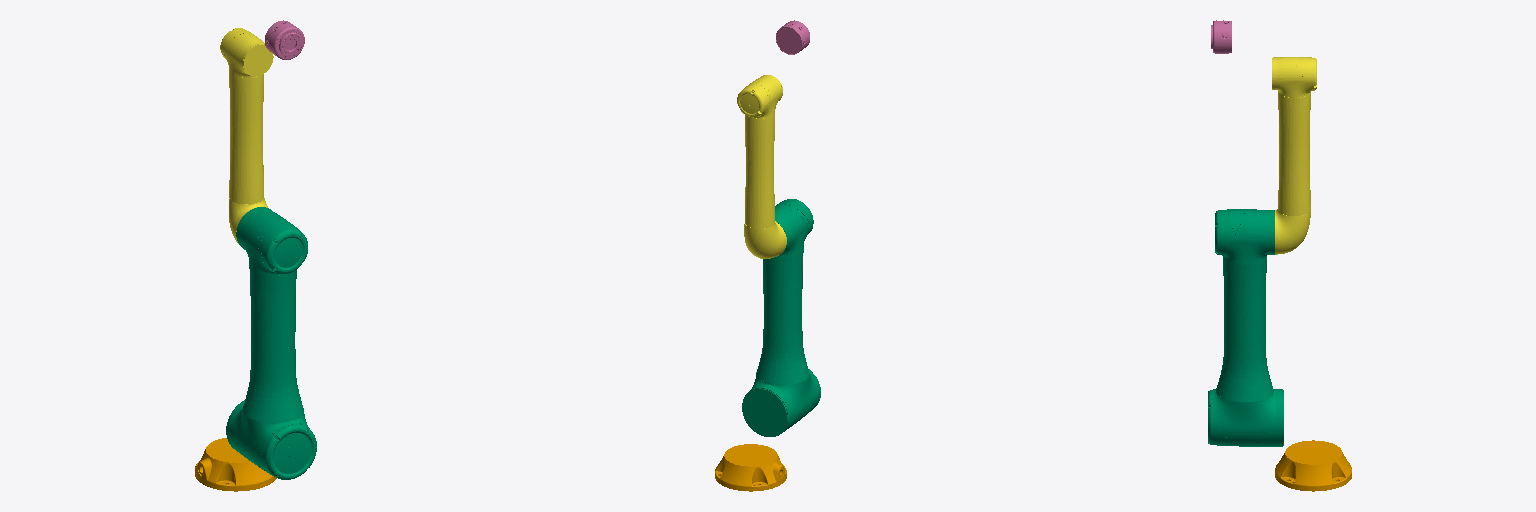
robot.urdf — tm14x:
<?xml version="1.0" ?>
<!-- =================================================================================== -->
<!-- |    This document was autogenerated by xacro from tm14x.urdf.xacro               | -->
<!-- |    EDITING THIS FILE BY HAND IS NOT RECOMMENDED                                 | -->
<!-- =================================================================================== -->
<robot name="tm14x">
  <gazebo reference="link_1">
    <selfCollide>true</selfCollide>
  </gazebo>
  <gazebo reference="link_2">
    <selfCollide>true</selfCollide>
  </gazebo>
  <gazebo reference="link_3">
    <selfCollide>true</selfCollide>
  </gazebo>
  <gazebo reference="link_4">
    <selfCollide>true</selfCollide>
  </gazebo>
  <gazebo reference="link_5">
    <selfCollide>true</selfCollide>
  </gazebo>
  <gazebo reference="link_6">
    <selfCollide>true</selfCollide>
  </gazebo>
  <gazebo>
    <plugin filename="libgazebo_ros_control.so" name="gazebo_ros_control">
      <robotNamespace>/</robotNamespace>
      <robotSimType>gazebo_ros_control/DefaultRobotHWSim</robotSimType>
    </plugin>
  </gazebo>
  <transmission name="trans_1">
    <type>transmission_interface/SimpleTransmission</type>
    <joint name="joint_1">
      <hardwareInterface>hardware_interface/PositionJointInterface</hardwareInterface>
    </joint>
    <actuator name="motor_1">
      <mechanicalReduction>1</mechanicalReduction>
    </actuator>
  </transmission>
  <transmission name="trans_2">
    <type>transmission_interface/SimpleTransmission</type>
    <joint name="joint_2">
      <hardwareInterface>hardware_interface/PositionJointInterface</hardwareInterface>
    </joint>
    <actuator name="motor_2">
      <mechanicalReduction>1</mechanicalReduction>
    </actuator>
  </transmission>
  <transmission name="trans_3">
    <type>transmission_interface/SimpleTransmission</type>
    <joint name="joint_3">
      <hardwareInterface>hardware_interface/PositionJointInterface</hardwareInterface>
    </joint>
    <actuator name="motor_3">
      <mechanicalReduction>1</mechanicalReduction>
    </actuator>
  </transmission>
  <transmission name="trans_4">
    <type>transmission_interface/SimpleTransmission</type>
    <joint name="joint_4">
      <hardwareInterface>hardware_interface/PositionJointInterface</hardwareInterface>
    </joint>
    <actuator name="motor_4">
      <mechanicalReduction>1</mechanicalReduction>
    </actuator>
  </transmission>
  <transmission name="trans_5">
    <type>transmission_interface/SimpleTransmission</type>
    <joint name="joint_5">
      <hardwareInterface>hardware_interface/PositionJointInterface</hardwareInterface>
    </joint>
    <actuator name="motor_5">
      <mechanicalReduction>1</mechanicalReduction>
    </actuator>
  </transmission>
  <transmission name="trans_6">
    <type>transmission_interface/SimpleTransmission</type>
    <joint name="joint_6">
      <hardwareInterface>hardware_interface/PositionJointInterface</hardwareInterface>
    </joint>
    <actuator name="motor_6">
      <mechanicalReduction>1</mechanicalReduction>
    </actuator>
  </transmission>
  <material name="lightgrey">
    <color rgba="0.5 0.5 0.5 1.0"/>
  </material>
  <material name="grey">
    <color rgba="0.75 0.75 0.75 1.0"/>
  </material>
  <material name="white">
    <color rgba="0.95 0.95 0.95 1.0"/>
  </material>
  <material name="red">
    <color rgba="0.95 0.0 0.0 1.0"/>
  </material>
  <material name="orange">
    <color rgba="1.0 0.5 0.0 1.0"/>
  </material>
  <material name="yellow">
    <color rgba="1.0 1.0 0.0 1.0"/>
  </material>
  <material name="green">
    <color rgba="0.0 1.0 0.0 1.0"/>
  </material>
  <material name="blue">
    <color rgba="0.0 0.0 1.0 1.0"/>
  </material>
  <material name="indigo">
    <color rgba="0.3 0.3 0.6 1.0"/>
  </material>
  <material name="violet">
    <color rgba="0.6 0.0 1.0 1.0"/>
  </material>
  <material name="black">
    <color rgba="0.0 0.0 0.0 1.0"/>
  </material>
  <material name="darkolive">
    <color rgba="0.3 0.3 0.25 1.0"/>
  </material>
  <!--LinkDescription-->
  <link name="link_0">
    <visual>
      <geometry>
        <mesh filename="package://tm_description/meshes/tm12/visual/tm12-base.obj"/>
      </geometry>
      <material name="none"/>
    </visual>
    <collision>
      <geometry>
        <mesh filename="package://tm_description/meshes/tm12/collision/tm12-base_c.stl"/>
      </geometry>
    </collision>
    <inertial>
      <mass value="1.0"/>
      <origin rpy="0.000000 0.000000 0.000000" xyz="0.000000 0.000000 0.000000"/>
      <inertia ixx="0.00110833289" ixy="0.0" ixz="0.0" iyy="0.00110833289" iyz="0.0" izz="0.0018"/>
    </inertial>
  </link>
  <joint name="joint_1" type="revolute">
    <parent link="link_0"/>
    <child link="link_1"/>
    <origin rpy="0.000000 -0.000000 0.000000" xyz="0.000000 0.000000 0.165200"/>
    <axis xyz="0 0 1"/>
    <!--limit-->
    <limit effort="353" lower="-6.283185307179586" upper="6.283185307179586" velocity="2.0943951023931953"/>
    <dynamics damping="0.0" friction="0.0"/>
  </joint>
  <link name="link_1">
    <visual>
      <geometry>
        <mesh filename="package://tm_description/meshes/tm12/visual/tmr_750w_01.obj"/>
      </geometry>
      <material name="none"/>
    </visual>
    <collision>
      <geometry>
        <mesh filename="package://tm_description/meshes/tm12/collision/tmr_750w_01_c.stl"/>
      </geometry>
    </collision>
    <inertial>
      <origin rpy="0.000000 0.000000 0.000000" xyz="0.000000 0.000000 0.000000"/>
      <mass value="7.6"/>
      <inertia ixx="0.020289334" ixy="0.000000" ixz="0.000000" iyy="0.020289334" iyz="0.000000" izz="0.021396270999999998"/>
    </inertial>
  </link>
  <joint name="joint_2" type="revolute">
    <parent link="link_1"/>
    <child link="link_2"/>
    <origin rpy="-1.570796 -1.570796 0.000000" xyz="0.000000 0.000000 0.000000"/>
    <axis xyz="0 0 1"/>
    <!--limit-->
    <limit effort="353" lower="-6.283185307179586" upper="6.283185307179586" velocity="2.0943951023931953"/>
    <dynamics damping="0.0" friction="0.0"/>
  </joint>
  <link name="link_2">
    <visual>
      <geometry>
        <mesh filename="package://tm_description/meshes/tm14/visual/tm14_arm1.obj"/>
      </geometry>
      <material name="none"/>
    </visual>
    <collision>
      <geometry>
        <mesh filename="package://tm_description/meshes/tm14/collision/tm14_arm1_c.stl"/>
      </geometry>
    </collision>
    <inertial>
      <origin rpy="0.000000 0.000000 0.000000" xyz="0.000000 0.000000 0.000000"/>
      <mass value="14.0239"/>
      <inertia ixx="0.071505715" ixy="0.000000" ixz="0.000000" iyy="1.1758788999999998" iyz="0.000000" izz="1.2033932999999999"/>
    </inertial>
  </link>
  <joint name="joint_3" type="revolute">
    <parent link="link_2"/>
    <child link="link_3"/>
    <origin rpy="0.000000 -0.000000 0.000000" xyz="0.536100 0.000000 0.000000"/>
    <axis xyz="0 0 1"/>
    <!--limit-->
    <limit effort="157" lower="-2.8448866807507573" upper="2.8448866807507573" velocity="3.141592653589793"/>
    <dynamics damping="0.0" friction="0.0"/>
  </joint>
  <link name="link_3">
    <visual>
      <geometry>
        <mesh filename="package://tm_description/meshes/tm14/visual/tm14_arm2.obj"/>
      </geometry>
      <material name="none"/>
    </visual>
    <collision>
      <geometry>
        <mesh filename="package://tm_description/meshes/tm14/collision/tm14_arm2_c.stl"/>
      </geometry>
    </collision>
    <inertial>
      <origin rpy="0.000000 0.000000 0.000000" xyz="0.000000 0.000000 0.000000"/>
      <mass value="3.3577"/>
      <inertia ixx="0.009755469" ixy="0.000000" ixz="0.000000" iyy="0.16334719" iyz="0.000000" izz="0.16656678"/>
    </inertial>
  </link>
  <joint name="joint_4" type="revolute">
    <parent link="link_3"/>
    <child link="link_4"/>
    <origin rpy="0.000000 -0.000000 1.570796" xyz="0.457900 0.000000 -0.156300"/>
    <axis xyz="0 0 1"/>
    <!--limit-->
    <limit effort="54" lower="-6.283185307179586" upper="6.283185307179586" velocity="2.6179938779914944"/>
    <dynamics damping="0.0" friction="0.0"/>
  </joint>
  <link name="link_4">
    <visual>
      <geometry>
        <mesh filename="package://tm_description/meshes/tm5-900/visual/tmr_100w_01.obj"/>
      </geometry>
      <material name="none"/>
    </visual>
    <collision>
      <geometry>
        <mesh filename="package://tm_description/meshes/tm5-900/collision/tmr_100w_01_c.stl"/>
      </geometry>
    </collision>
    <inertial>
      <origin rpy="0.000000 0.000000 0.000000" xyz="0.000000 0.000000 0.000000"/>
      <mass value="1.576"/>
      <inertia ixx="0.002058405" ixy="0.000000" ixz="0.000000" iyy="0.0025630790000000002" iyz="0.000000" izz="0.00264321"/>
    </inertial>
  </link>
  <joint name="joint_5" type="revolute">
    <parent link="link_4"/>
    <child link="link_5"/>
    <origin rpy="1.570796 -0.000000 0.000000" xyz="0.000000 -0.106000 0.000000"/>
    <axis xyz="0 0 1"/>
    <!--limit-->
    <limit effort="54" lower="-6.283185307179586" upper="6.283185307179586" velocity="2.6179938779914944"/>
    <dynamics damping="0.0" friction="0.0"/>
  </joint>
  <link name="link_5">
    <visual>
      <geometry>
        <mesh filename="package://tm_description/meshes/tm5-900/visual/tmr_100w_02.obj"/>
      </geometry>
      <material name="none"/>
    </visual>
    <collision>
      <geometry>
        <mesh filename="package://tm_description/meshes/tm5-900/collision/tmr_100w_02_c.stl"/>
      </geometry>
    </collision>
    <inertial>
      <origin rpy="0.000000 0.000000 0.000000" xyz="0.000000 0.000000 0.000000"/>
      <mass value="1.576"/>
      <inertia ixx="0.002058405" ixy="0.000000" ixz="0.000000" iyy="0.0025630790000000002" iyz="0.000000" izz="0.00264321"/>
    </inertial>
  </link>
  <joint name="joint_6" type="revolute">
    <parent link="link_5"/>
    <child link="link_6"/>
    <origin rpy="1.570796 -0.000000 0.000000" xyz="0.000000 -0.113150 0.000000"/>
    <axis xyz="0 0 1"/>
    <!--limit-->
    <limit effort="54" lower="-6.283185307179586" upper="6.283185307179586" velocity="3.141592653589793"/>
    <dynamics damping="0.0" friction="0.0"/>
  </joint>
  <link name="link_6">
    <visual>
      <geometry>
        <mesh filename="package://tm_description/meshes/tm5-900/visual/tmr_iox.obj"/>
      </geometry>
      <material name="none"/>
    </visual>
    <collision>
      <geometry>
        <mesh filename="package://tm_description/meshes/tm5-900/collision/tmr_iox_c.stl"/>
      </geometry>
    </collision>
    <inertial>
      <origin rpy="0.000000 0.000000 0.000000" xyz="0.000000 0.000000 0.000000"/>
      <mass value="0.31"/>
      <inertia ixx="0.000226642" ixy="0.000000" ixz="0.000000" iyy="0.000226642" iyz="0.000000" izz="0.000286595"/>
    </inertial>
  </link>
  <link name="base"/>
  <joint name="base_fixed_joint" type="fixed">
    <parent link="base"/>
    <child link="link_0"/>
    <origin rpy="0.000000 0.000000 0.000000" xyz="0.000000 0.000000 0.000000"/>
  </joint>
  <link name="flange"/>
  <joint name="flange_fixed_joint" type="fixed">
    <parent link="link_6"/>
    <child link="flange"/>
    <origin rpy="0.000000 0.000000 0.000000" xyz="0.000000 0.000000 0.000000"/>
  </joint>
  <!--LinkDescription-->
</robot>

--- Facts derived from the render (not from the file) ---
Views: 3 orthographic renders of the robot side by side, from view 1: azimuth 30°, elevation 25°; view 2: azimuth 150°, elevation 25°; view 3: azimuth 270°, elevation 25°.
Robot: tm14x — 9 links, 8 joints (6 revolute, 2 fixed); root link base; default pose: every joint at zero.
Links seen in each view (by area): view 1: link_2, link_3, link_0, link_6; view 2: link_2, link_3, link_0, link_6; view 3: link_2, link_3, link_0, link_6.
Link boxes in pixels (bbox=[...]): link_2: bbox=[226, 207, 316, 479]; link_3: bbox=[220, 28, 273, 243]; link_0: bbox=[195, 438, 276, 491]; link_6: bbox=[265, 20, 304, 59]; link_2: bbox=[742, 199, 820, 436]; link_3: bbox=[737, 75, 786, 258]; link_0: bbox=[715, 444, 786, 491]; link_6: bbox=[776, 20, 809, 54]; link_2: bbox=[1208, 209, 1283, 446]; link_3: bbox=[1272, 57, 1316, 254]; link_0: bbox=[1275, 440, 1351, 491]; link_6: bbox=[1211, 20, 1231, 53].
Size in the robot's own frame: 0.203 by 0.3795 by 1.31 metres.
Meshes: 7 distinct files referenced, 4 mesh visuals loaded (4 OBJ); not drawn: 3 (reference not matched to a file when rendering).